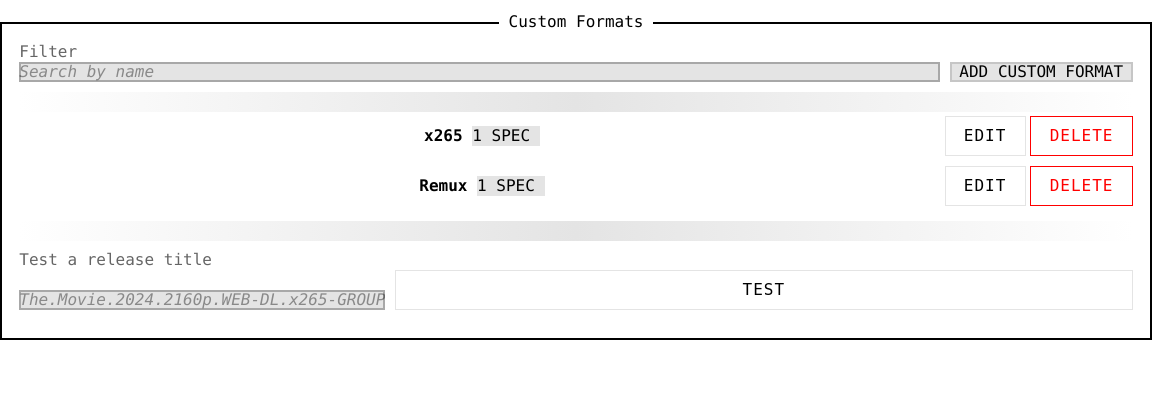
Test case: CustomFormats (settings editor) › runs a live test preview against POST /customformat/test
Expected: the text "x265" is shown, [424,126,463,145]
Step 1. Type "The.Movie.2024.1080p.x265-GRP" into the field named "Test release title" → (202, 300), box [19,290,385,310]
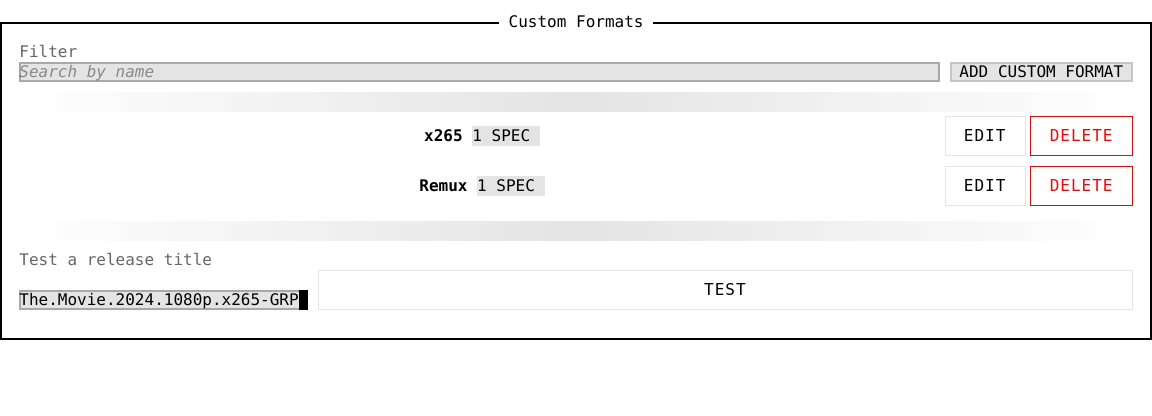
Step 2. Click the button with aria-label "Run test" → (725, 290), box [318,270,1133,310]
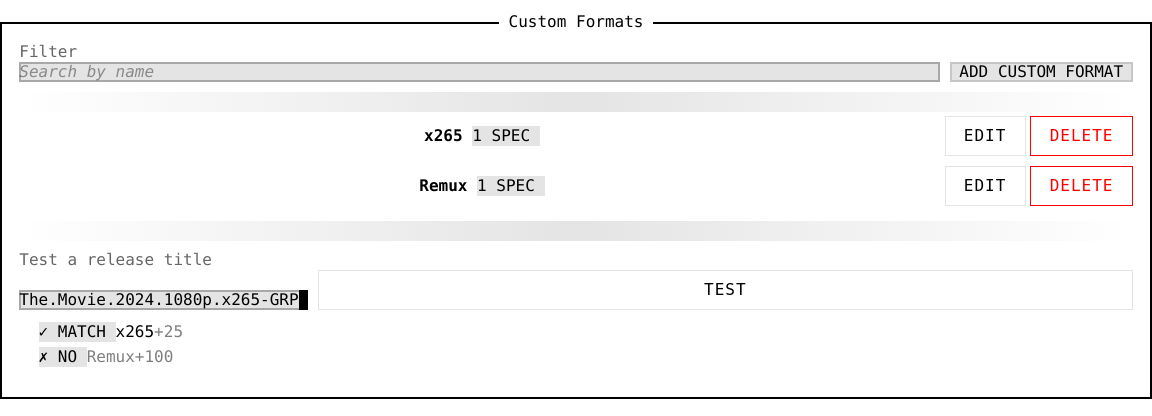
Result: the element showing "The.Movie.2024.1080p.x265-GRP" is shown at [19,290,308,310]
Result: the text "✓ match" is shown at [38,322,116,342]
Result: the text "✗ no" is shown at [38,347,87,367]
